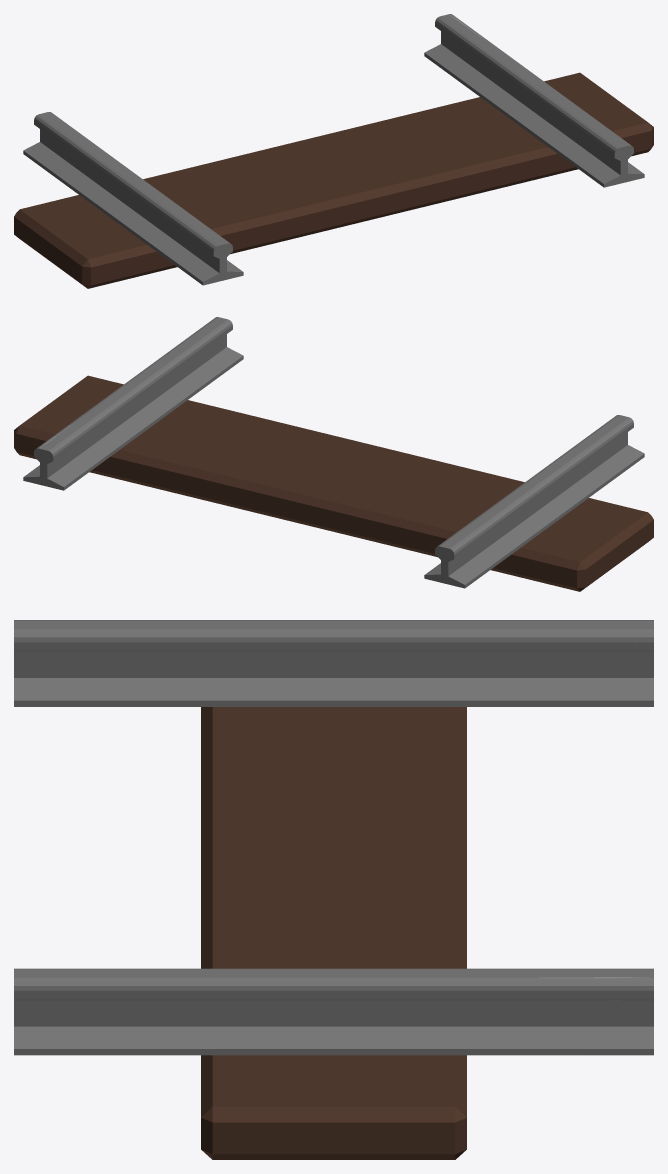
Rendered from TrainTrack.fbx.
The picture shows the model from 3 angles, top to bottom: view 1: azimuth 30°, elevation 25°; view 2: azimuth 150°, elevation 25°; view 3: azimuth 270°, elevation 25°; orthographic projection. The views are drawn at different scales.
Parts seen in each view (by area): view 1: TrainTrack; view 2: TrainTrack; view 3: TrainTrack.
Boxes of the visible parts, <box> form: TrainTrack: <box>14,14,653,288</box>; TrainTrack: <box>14,317,653,591</box>; TrainTrack: <box>14,620,653,1159</box>.
Size of the model in its own units: 284 by 31.22 by 155.
Materials: 1 (1 with a texture image).
